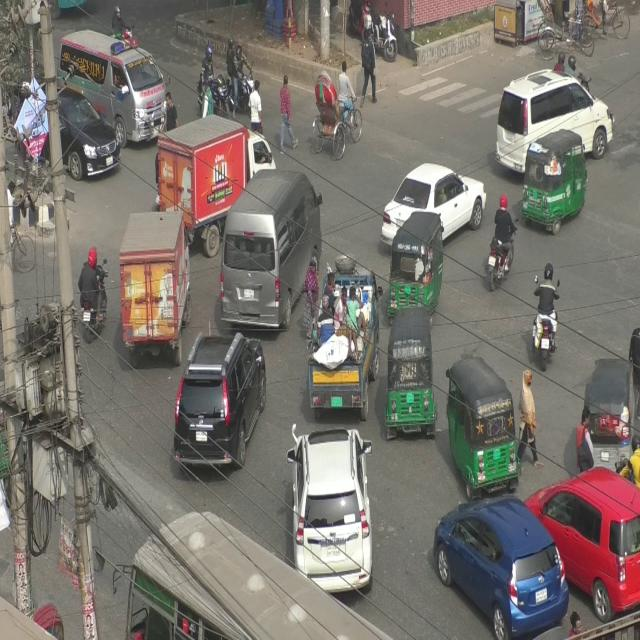cng: (445, 345, 520, 507), (386, 307, 440, 456), (524, 111, 587, 238), (386, 193, 440, 322)
rikshaw: (303, 60, 366, 148)
